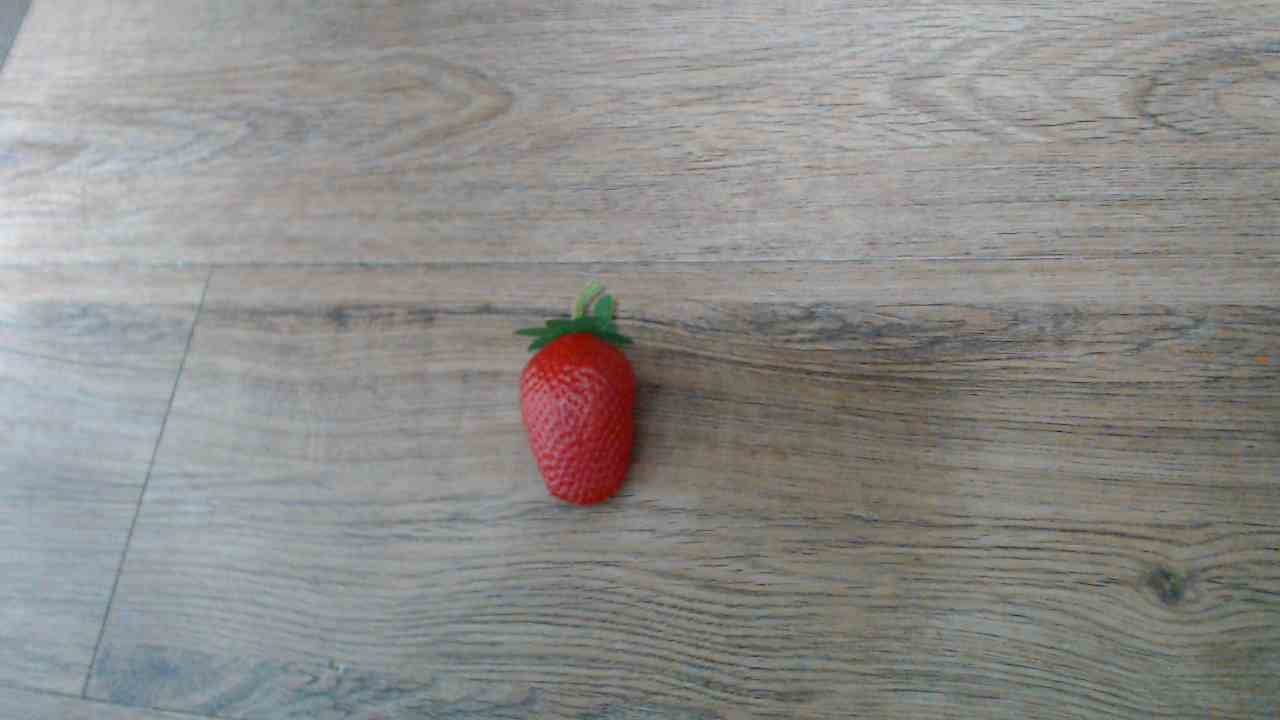strawberry: (516, 311, 648, 510)
